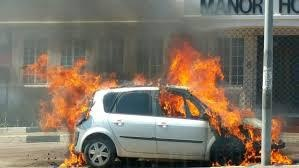fire: (156, 41, 296, 162), (26, 53, 118, 125), (57, 141, 88, 168)
